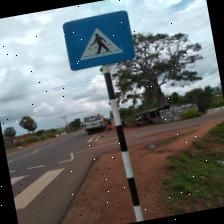blueboard: (60, 8, 138, 72)
crossing: (10, 166, 71, 210)
